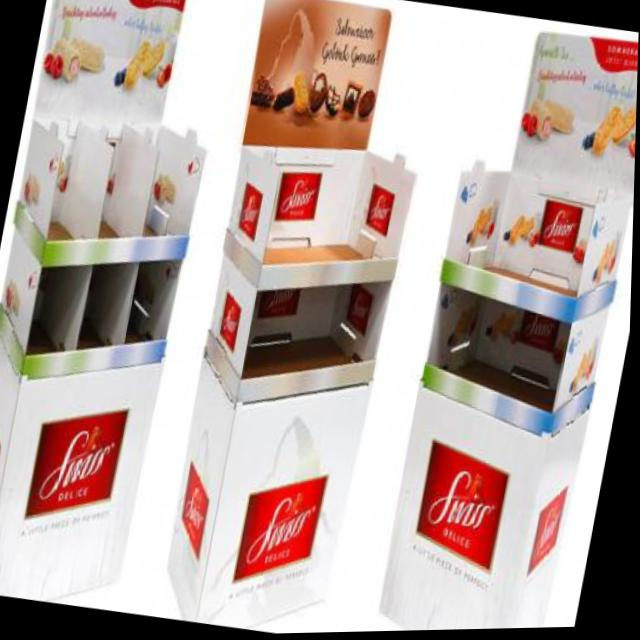box: (143, 0, 466, 637), (370, 11, 639, 633), (0, 0, 241, 615)
